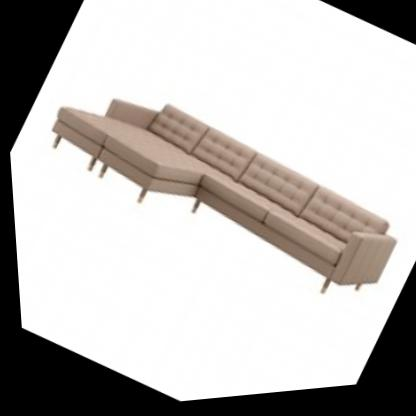Sofa: (3, 30, 416, 379)
